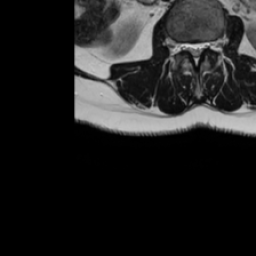CCS_normal: (192, 35, 199, 71)
LFS_normal: (206, 35, 215, 56)
LLS_normal: (199, 34, 206, 58)
RFS_normal: (177, 35, 185, 57)
RLS_normal: (185, 35, 192, 56)
